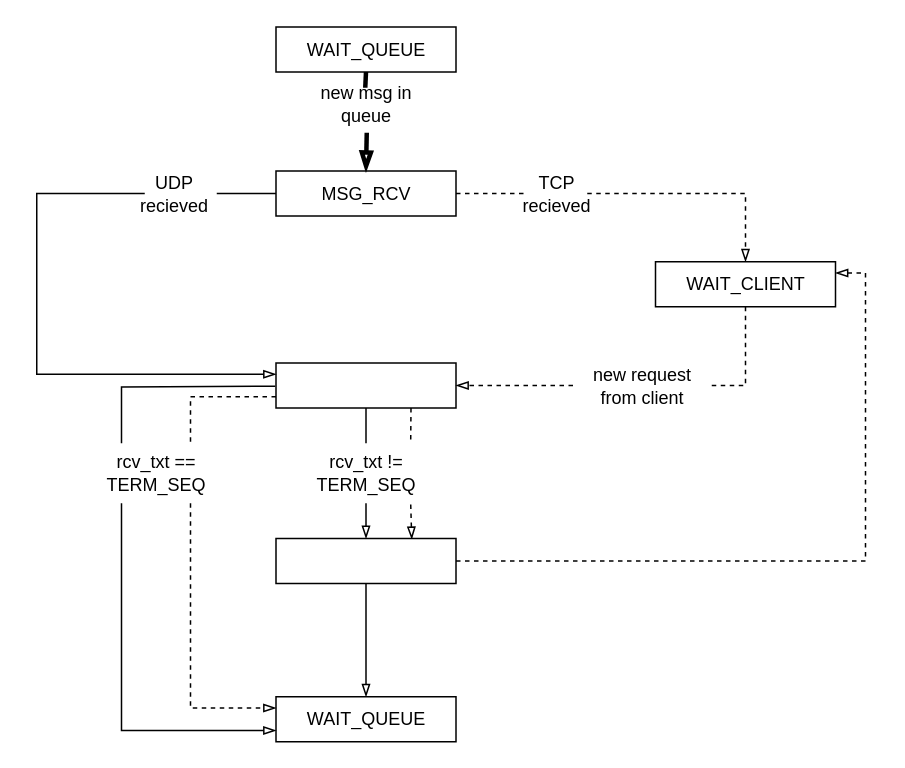
Some shapes in this 905 by 768 pixel diagram are drawn without their labels. Here are the shapes that lost their labels. From the top down, the box of each, then its label:
(274, 362, 456, 408): WORK
(274, 537, 456, 584): SEND
